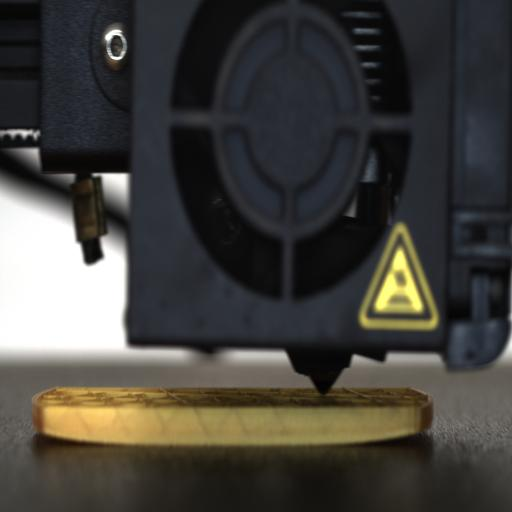warp: (370, 413, 440, 447), (30, 416, 84, 446)
